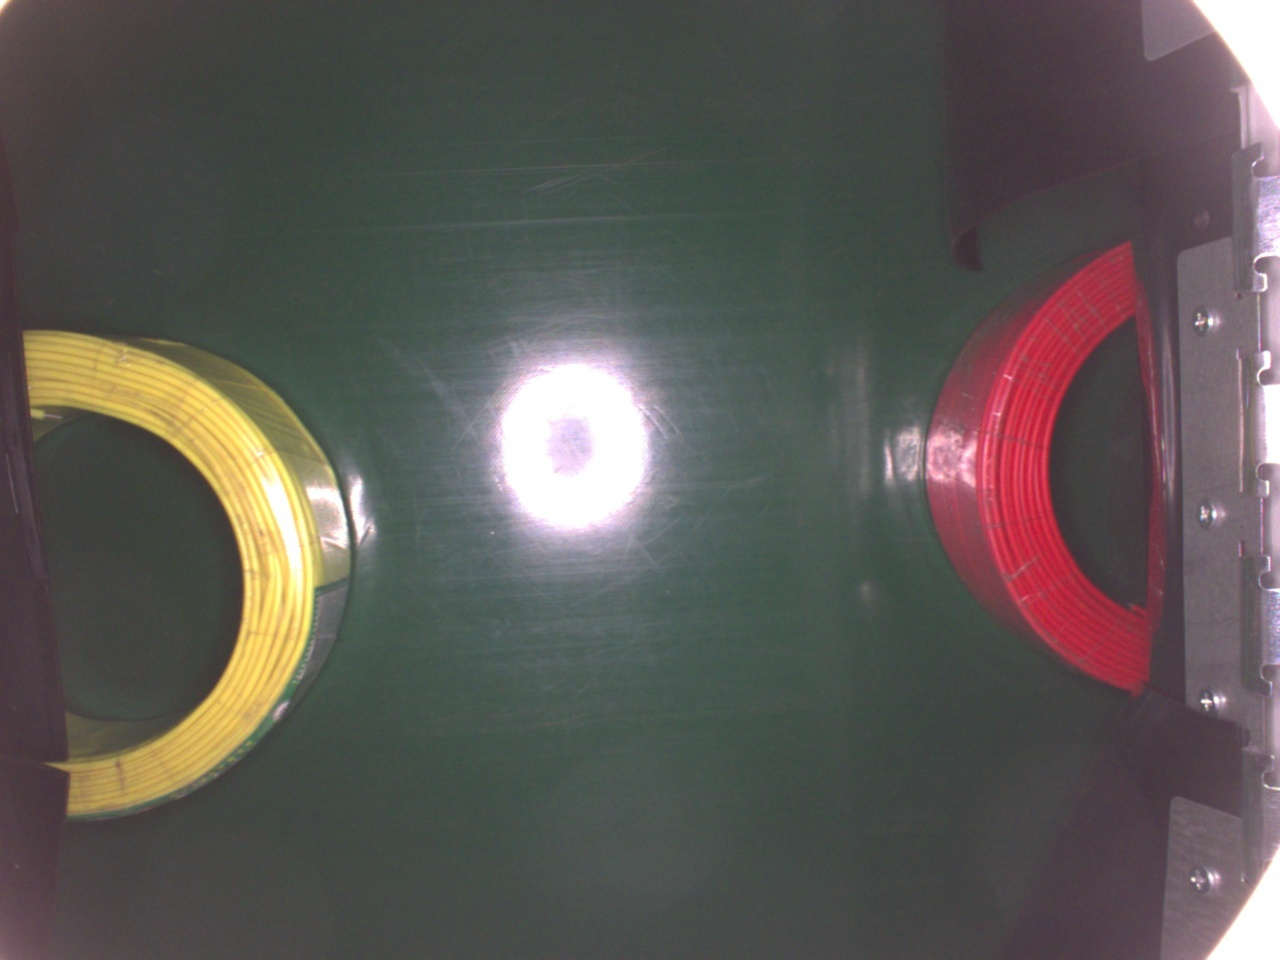red: (921, 239, 1150, 694)
yellow: (16, 320, 352, 814)
